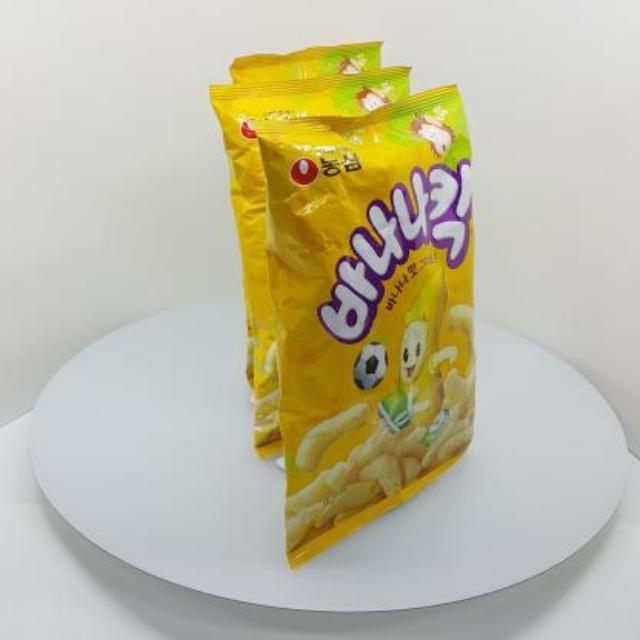snack_bag: (202, 31, 506, 578)
